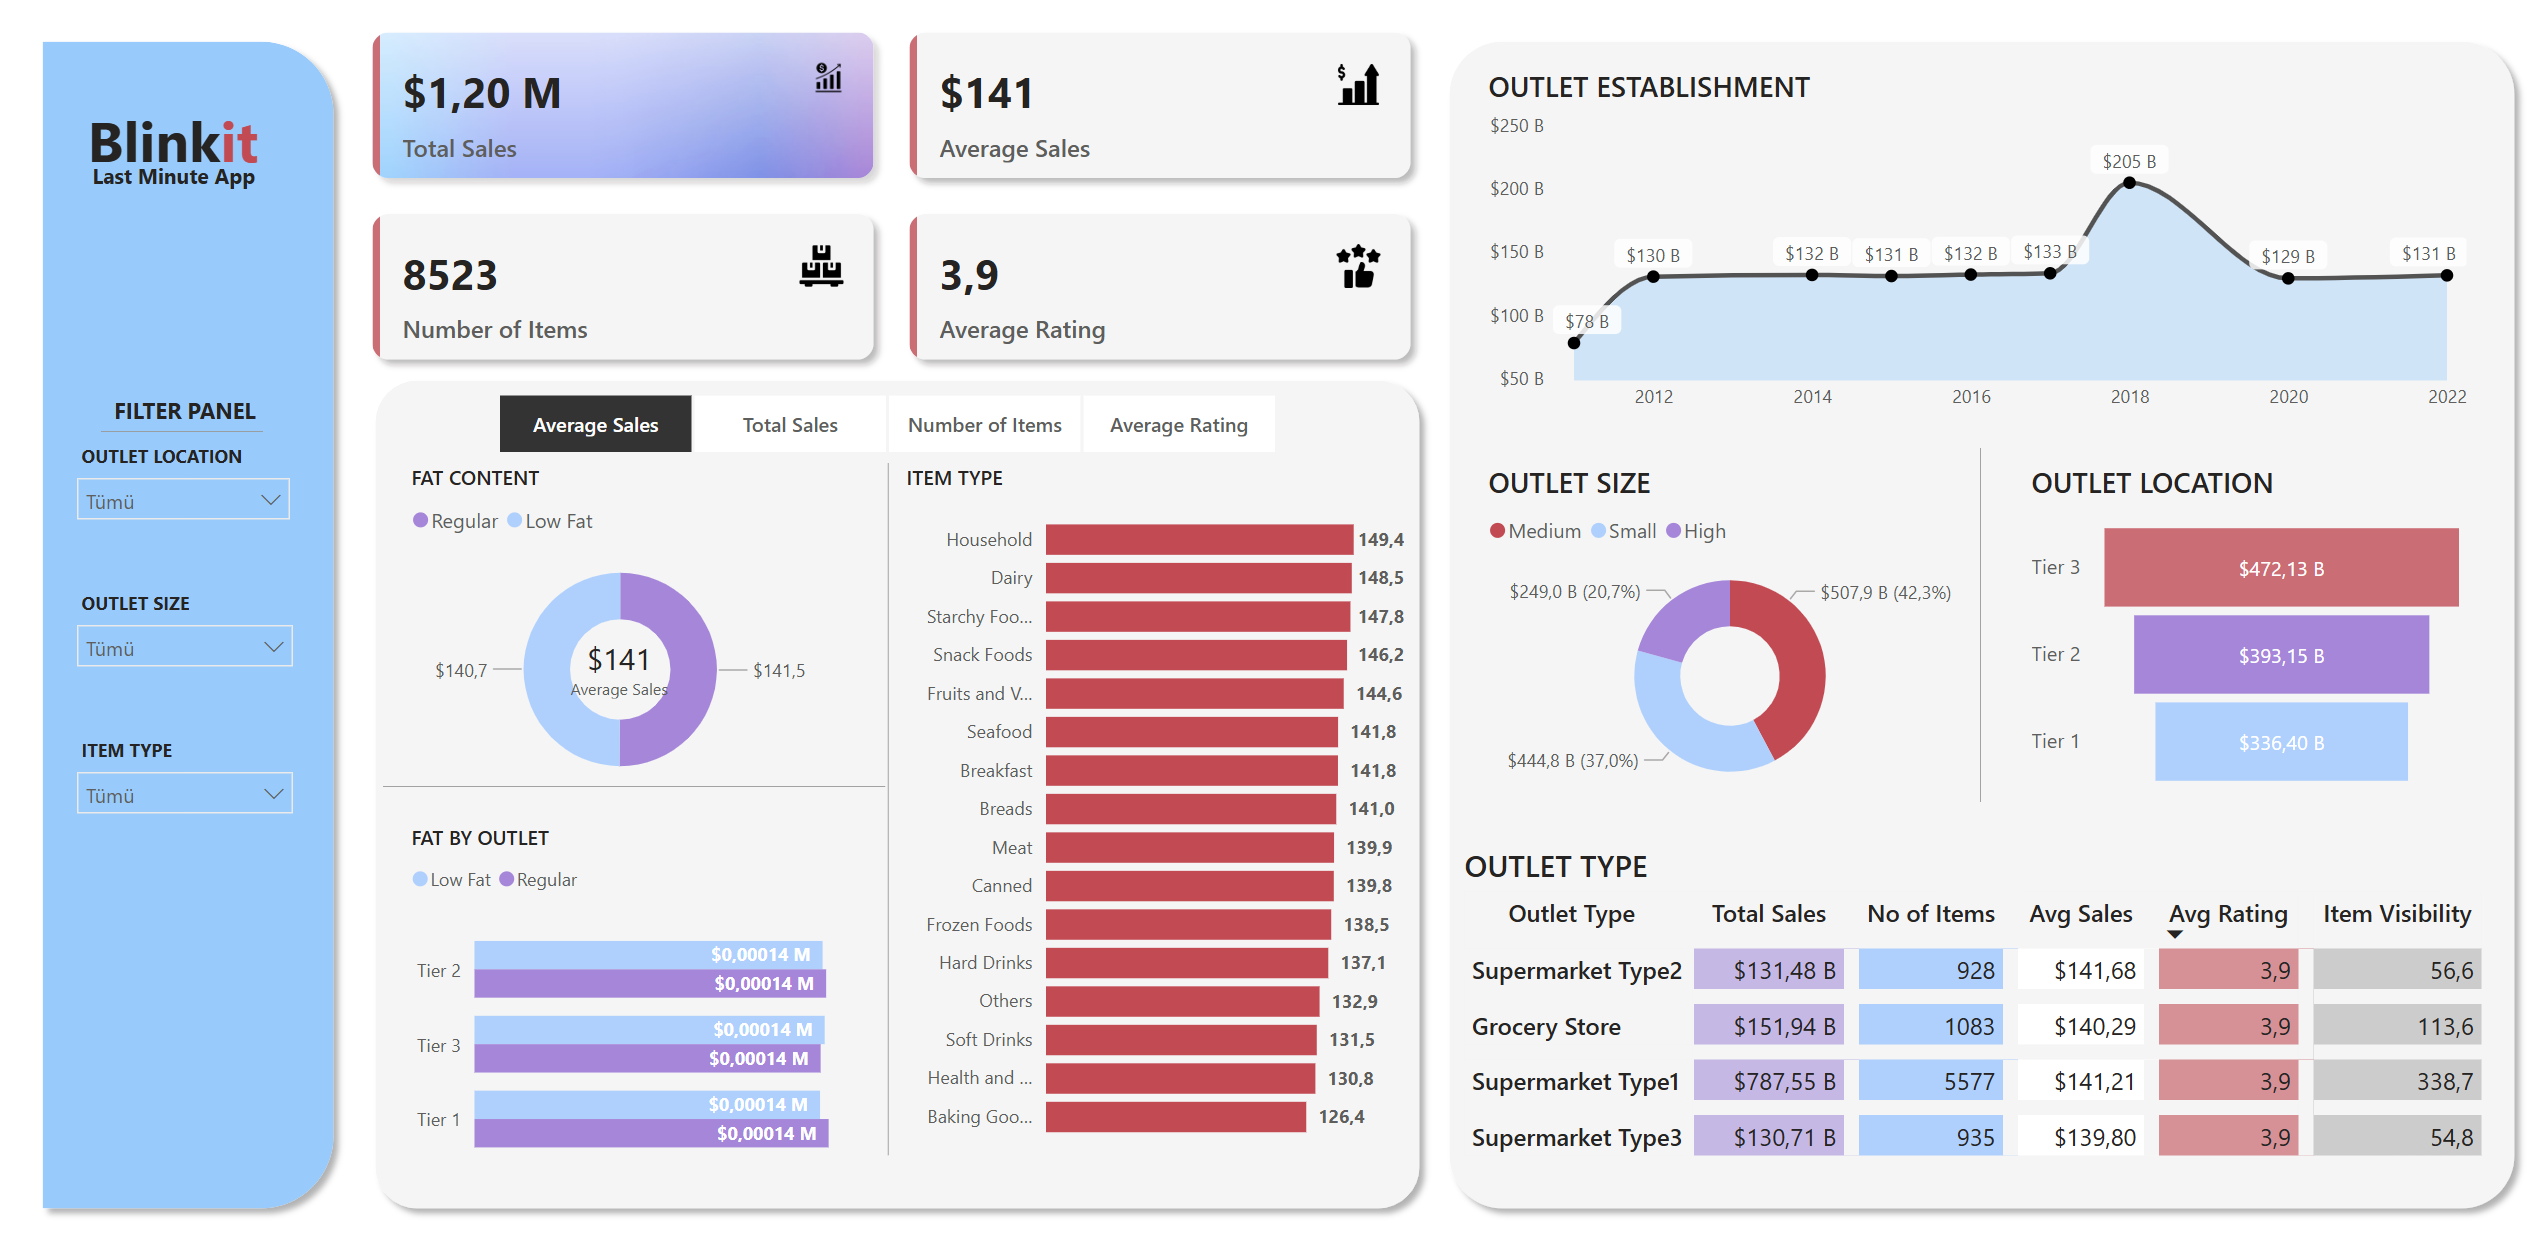

The page's visual inventory and layout, read from the dashboard file:
{"tool":"powerbi","page":{"name":"1. sayfa","canvas":[1700,830],"ordinal":0},"visuals":[{"type":"shape","box":[20,20,212,796],"z":0},{"type":"group","id":"g1","title":"Grup 1","box":[46.2,64.7,150.6,69],"z":1000},{"type":"textbox","box":[54.7,64.7,142.1,68.9],"z":1000,"group":"g1"},{"type":"cardVisual","fields":{"Data":["BlinkIT Grocery Data.Total Sales","BlinkIT Grocery Data.Average Sales","BlinkIT Grocery Data.Number of Items","BlinkIT Grocery Data.Average Rating"]},"box":[232,6,726,252],"z":2000},{"type":"textbox","box":[46.2,105,141.2,28.8],"z":2000,"group":"g1"},{"type":"shape","box":[958,20,728,796],"z":3000},{"type":"shape","box":[242,246,714,570],"z":3000,"group":"g3"},{"type":"slicer","fields":{"Values":["BlinkIT Grocery Data.Outlet Location Type"]},"box":[42.7,292,162,68],"z":4000},{"type":"donutChart","title":"FAT CONTENT","fields":{"Y":["BlinkIT Grocery Data.Average Sales"],"Category":["BlinkIT Grocery Data.Item Fat Content"]},"box":[270,310,288.3,228.3],"z":4000,"group":"g4"},{"type":"slicer","fields":{"Values":["Metrics.Metrics"]},"box":[308.3,258.3,566.7,51.7],"z":5000,"group":"g3"},{"type":"slicer","fields":{"Values":["BlinkIT Grocery Data.Outlet Size"]},"box":[42.7,390,164,68],"z":5000},{"type":"barChart","title":"ITEM TYPE","fields":{"Y":["BlinkIT Grocery Data.Average Sales"],"Category":["BlinkIT Grocery Data.Item Type"]},"box":[600,310,341.7,461.7],"z":6000,"group":"g3"},{"type":"slicer","fields":{"Values":["BlinkIT Grocery Data.Item Type"]},"box":[42.7,488,164,68],"z":6000},{"type":"group","id":"g2","title":"Grup 3","box":[972,46,698,770],"z":7000},{"type":"clusteredBarChart","title":"FAT BY OUTLET","fields":{"Y":["BlinkIT Grocery Data.Average Sales"],"Category":["BlinkIT Grocery Data.Outlet Location Type"],"Series":["BlinkIT Grocery Data.Item Fat Content"]},"box":[270,550,321.7,243.3],"z":7000,"group":"g3"},{"type":"group","id":"g3","title":"Grup 4","box":[242,246,714,570],"z":8000},{"type":"cardVisual","fields":{"Data":["BlinkIT Grocery Data.Average Sales"]},"box":[348.3,400,131.7,93.3],"z":8000,"group":"g4"},{"type":"shape","box":[68,258,108,62],"z":9000},{"type":"textbox","box":[44,260,160,32],"z":9000},{"type":"shape","box":[256.7,493.3,335,63.3],"z":9000,"group":"g3"},{"type":"shape","box":[551.7,310,81.7,461.7],"z":10000,"group":"g3"},{"type":"stackedAreaChart","title":"OUTLET ESTABLISHMENT","fields":{"Category":["BlinkIT Grocery Data.Outlet Establishment Year"],"Y":["BlinkIT Grocery Data.Total Sales"]},"box":[988,46,662,238],"z":12000,"group":"g2"},{"type":"donutChart","title":"OUTLET SIZE","fields":{"Y":["BlinkIT Grocery Data.Total Sales"],"Category":["BlinkIT Grocery Data.Outlet Size"]},"box":[988,310,332,230],"z":13000,"group":"g2"},{"type":"funnel","title":"OUTLET LOCATION","fields":{"Category":["BlinkIT Grocery Data.Outlet Location Type"],"Y":["BlinkIT Grocery Data.Total Sales"]},"box":[1350,310,300,230],"z":14000,"group":"g2"},{"type":"shape","box":[1280,300,82,236],"z":15000,"group":"g2"},{"type":"pivotTable","title":"OUTLET TYPE","fields":{"Values":["BlinkIT Grocery Data.Total Sales","BlinkIT Grocery Data.Number of Items","BlinkIT Grocery Data.Average Sales","BlinkIT Grocery Data.Average Rating","Sum(BlinkIT Grocery Data.Item Visibility)"],"Rows":["BlinkIT Grocery Data.Outlet Type"]},"box":[972,564,698,252],"z":16000,"group":"g2"},{"type":"group","id":"g4","title":"Grup 2","box":[270,310,288.3,228.3],"z":16004,"group":"g3"}]}

Visuals, with their boxes in screenshot pixels (x1, y1, x2, y2), scaled from the page's 1700x830 canvas onto the 2541x1237 screenshot:
shape: (x1=30, y1=30, x2=347, y2=1216)
"Grup 1" group: (x1=69, y1=96, x2=294, y2=199)
textbox: (x1=82, y1=96, x2=294, y2=199)
cardVisual - BlinkIT Grocery Data.Total Sales x BlinkIT Grocery Data.Average Sales: (x1=347, y1=9, x2=1432, y2=385)
textbox: (x1=69, y1=156, x2=280, y2=199)
shape: (x1=1432, y1=30, x2=2520, y2=1216)
shape: (x1=362, y1=367, x2=1429, y2=1216)
slicer - BlinkIT Grocery Data.Outlet Location Type: (x1=64, y1=435, x2=306, y2=537)
"FAT CONTENT" donutChart: (x1=404, y1=462, x2=834, y2=802)
slicer - Metrics.Metrics: (x1=461, y1=385, x2=1308, y2=462)
slicer - BlinkIT Grocery Data.Outlet Size: (x1=64, y1=581, x2=309, y2=683)
"ITEM TYPE" barChart: (x1=897, y1=462, x2=1408, y2=1150)
slicer - BlinkIT Grocery Data.Item Type: (x1=64, y1=727, x2=309, y2=829)
"Grup 3" group: (x1=1453, y1=69, x2=2496, y2=1216)
"FAT BY OUTLET" clusteredBarChart: (x1=404, y1=820, x2=884, y2=1182)
"Grup 4" group: (x1=362, y1=367, x2=1429, y2=1216)
cardVisual - BlinkIT Grocery Data.Average Sales: (x1=521, y1=596, x2=717, y2=735)
shape: (x1=102, y1=385, x2=263, y2=477)
textbox: (x1=66, y1=387, x2=305, y2=435)
shape: (x1=384, y1=735, x2=884, y2=830)
shape: (x1=825, y1=462, x2=947, y2=1150)
"OUTLET ESTABLISHMENT" stackedAreaChart: (x1=1477, y1=69, x2=2466, y2=423)
"OUTLET SIZE" donutChart: (x1=1477, y1=462, x2=1973, y2=805)
"OUTLET LOCATION" funnel: (x1=2018, y1=462, x2=2466, y2=805)
shape: (x1=1913, y1=447, x2=2036, y2=799)
"OUTLET TYPE" pivotTable: (x1=1453, y1=841, x2=2496, y2=1216)
"Grup 2" group: (x1=404, y1=462, x2=834, y2=802)
